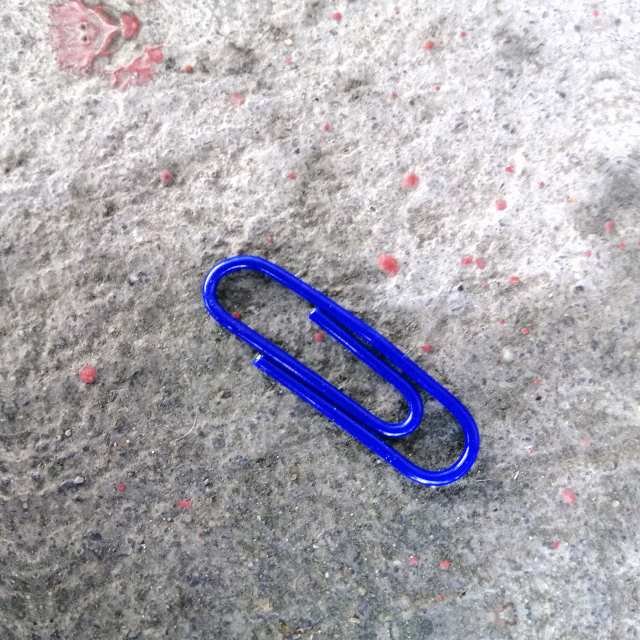pin: (204, 222, 483, 526)
